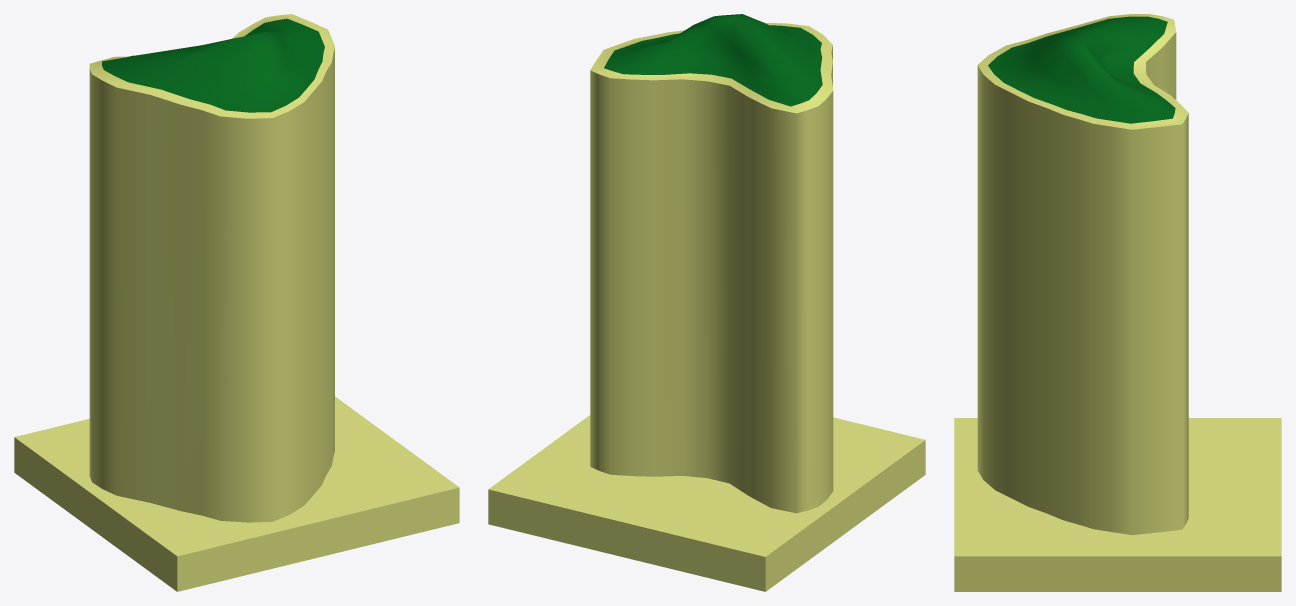
The model's file is Wild_Little_Island_02.fbx.
3 renders of one model, left to right at view 1: azimuth 30°, elevation 25°; view 2: azimuth 150°, elevation 25°; view 3: azimuth 270°, elevation 25°, orthographic. The views are drawn at different scales.
Visible parts, largest first — view 1: Wild_Little_Island_02; view 2: Wild_Little_Island_02; view 3: Wild_Little_Island_02.
Boxes of the visible parts, x1,y1,x2,y2 form: Wild_Little_Island_02: (14, 14, 459, 591); Wild_Little_Island_02: (488, 14, 925, 591); Wild_Little_Island_02: (954, 14, 1281, 591).
Size of the model in its own units: 34.03 by 55.17 by 34.03.
